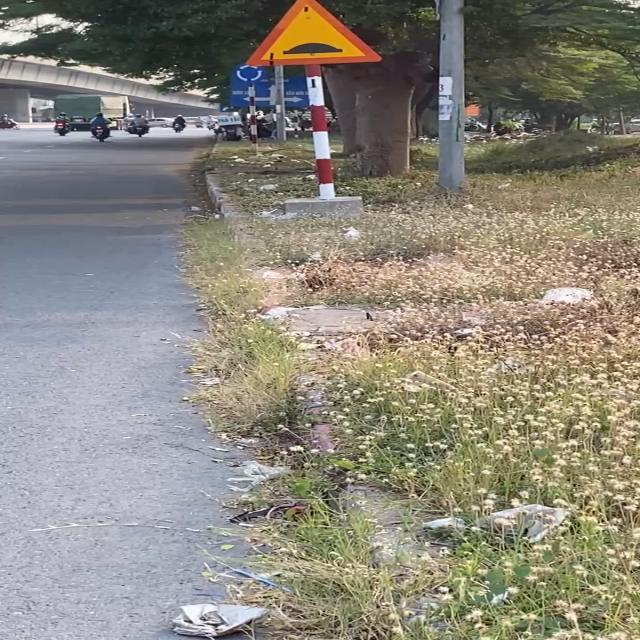221-duong-go-ghe: (240, 0, 384, 68)
303-noi-giao-nhau-chay-theo-vong-xuyen: (234, 63, 266, 83)
